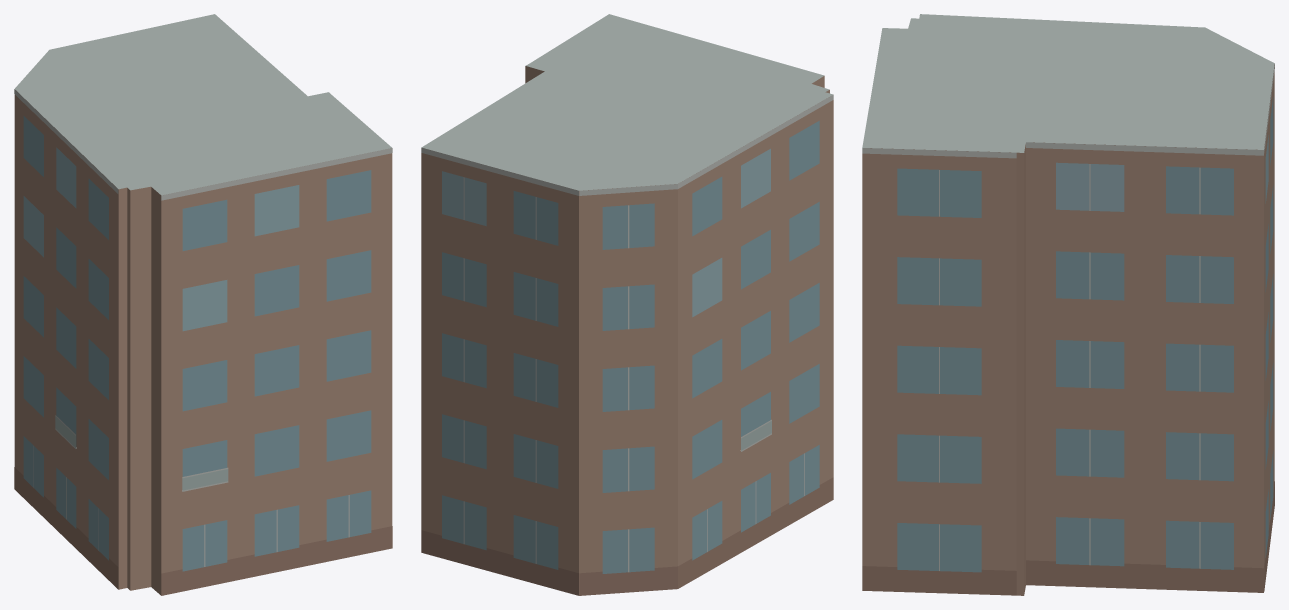
Rendered from survey-upis-32881883.glb.
3 renders of one model, left to right at view 1: azimuth 30°, elevation 25°; view 2: azimuth 150°, elevation 25°; view 3: azimuth 270°, elevation 25°, orthographic. The views are drawn at different scales.
Parts seen in each view (by area): view 1: survey-upis-32881883.tmp; view 2: survey-upis-32881883.tmp; view 3: survey-upis-32881883.tmp.
Boxes of the visible parts, x1,y1,x2,y2 form: survey-upis-32881883.tmp: [14, 14, 392, 595]; survey-upis-32881883.tmp: [421, 14, 833, 595]; survey-upis-32881883.tmp: [862, 14, 1274, 595].
Size of the model in its own units: 12.6 by 18.72 by 15.81.
